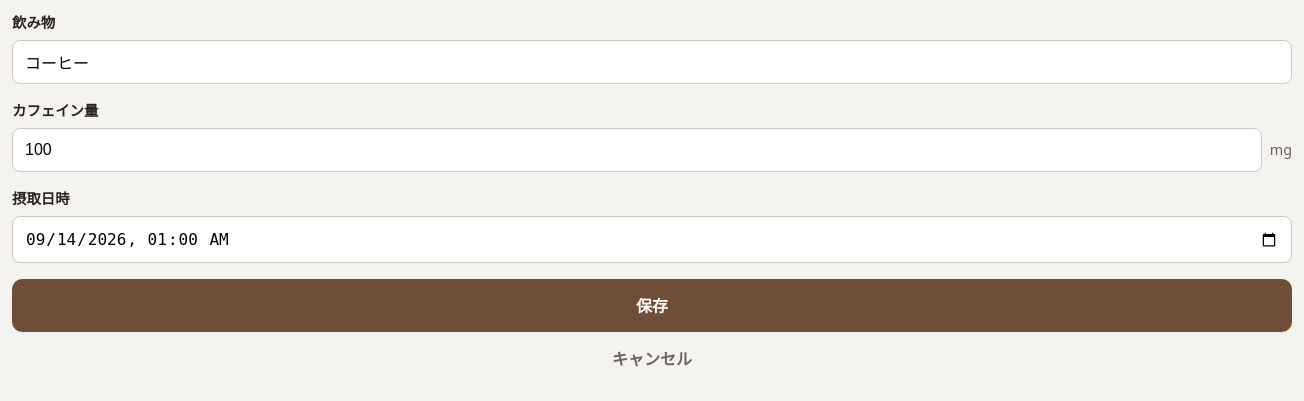
EditRecordForm › TEST-617: 保存中は入力欄・ボタンが無効化される
Click the button "保存" at (652, 305), box [12,279,1292,332]
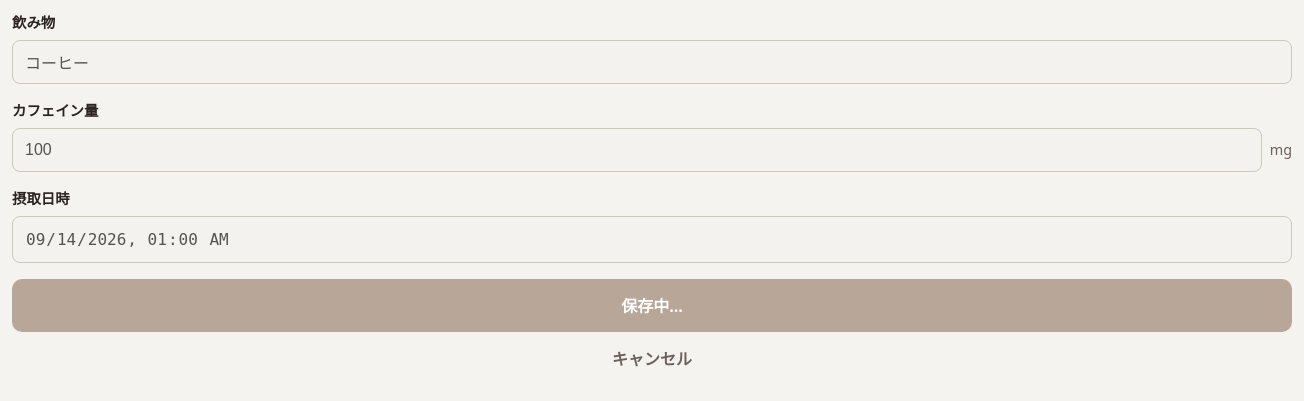
expect the button "キャンセル" is disabled: met, box [12,332,1292,385]
expect the button "保存中..." is shown: met, box [12,279,1292,332]
expect the field labelled "飲み物" is disabled: met, box [12,40,1292,84]
